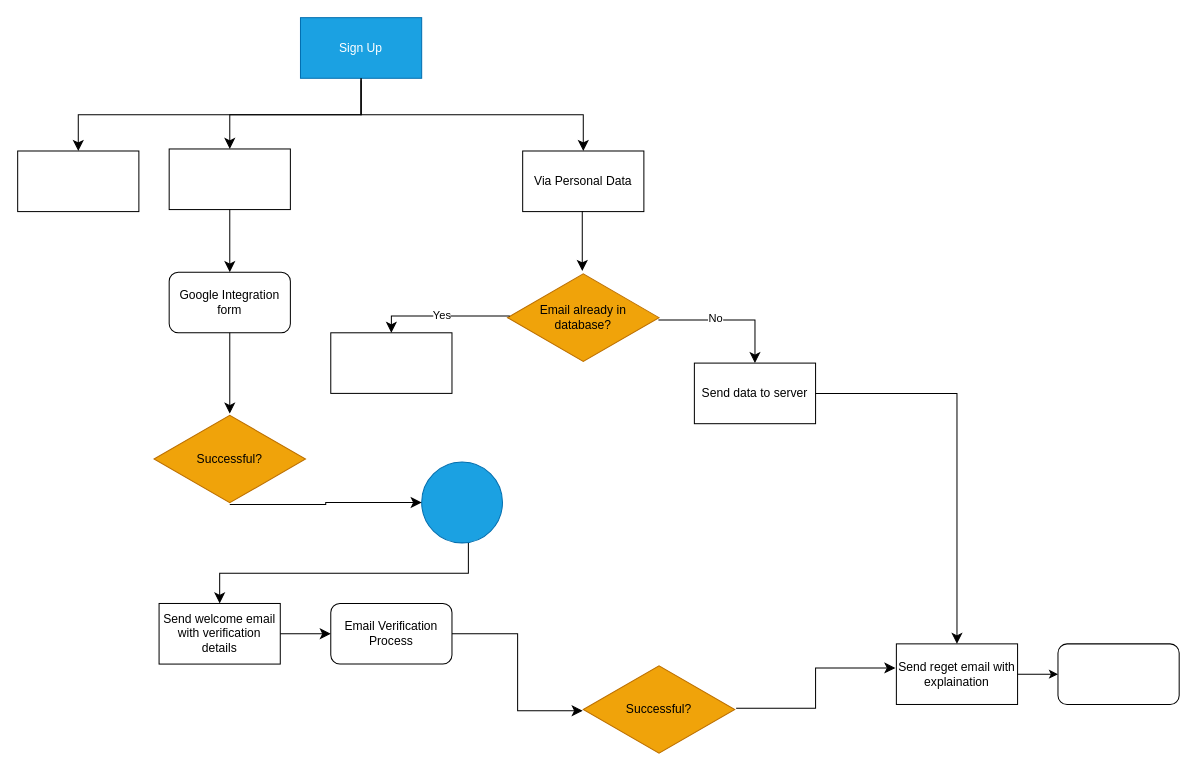
This 1197x773 diagram has some shape labels left out. The box of each missing label's shape, as (x1, y1, x2, y2) in pixels:
Create basic Account: (421, 461, 502, 543)
Error message: (330, 332, 452, 393)
Home Screen: (1057, 643, 1179, 704)
Via Apple: (17, 150, 139, 212)
Via Google: (168, 148, 290, 210)
